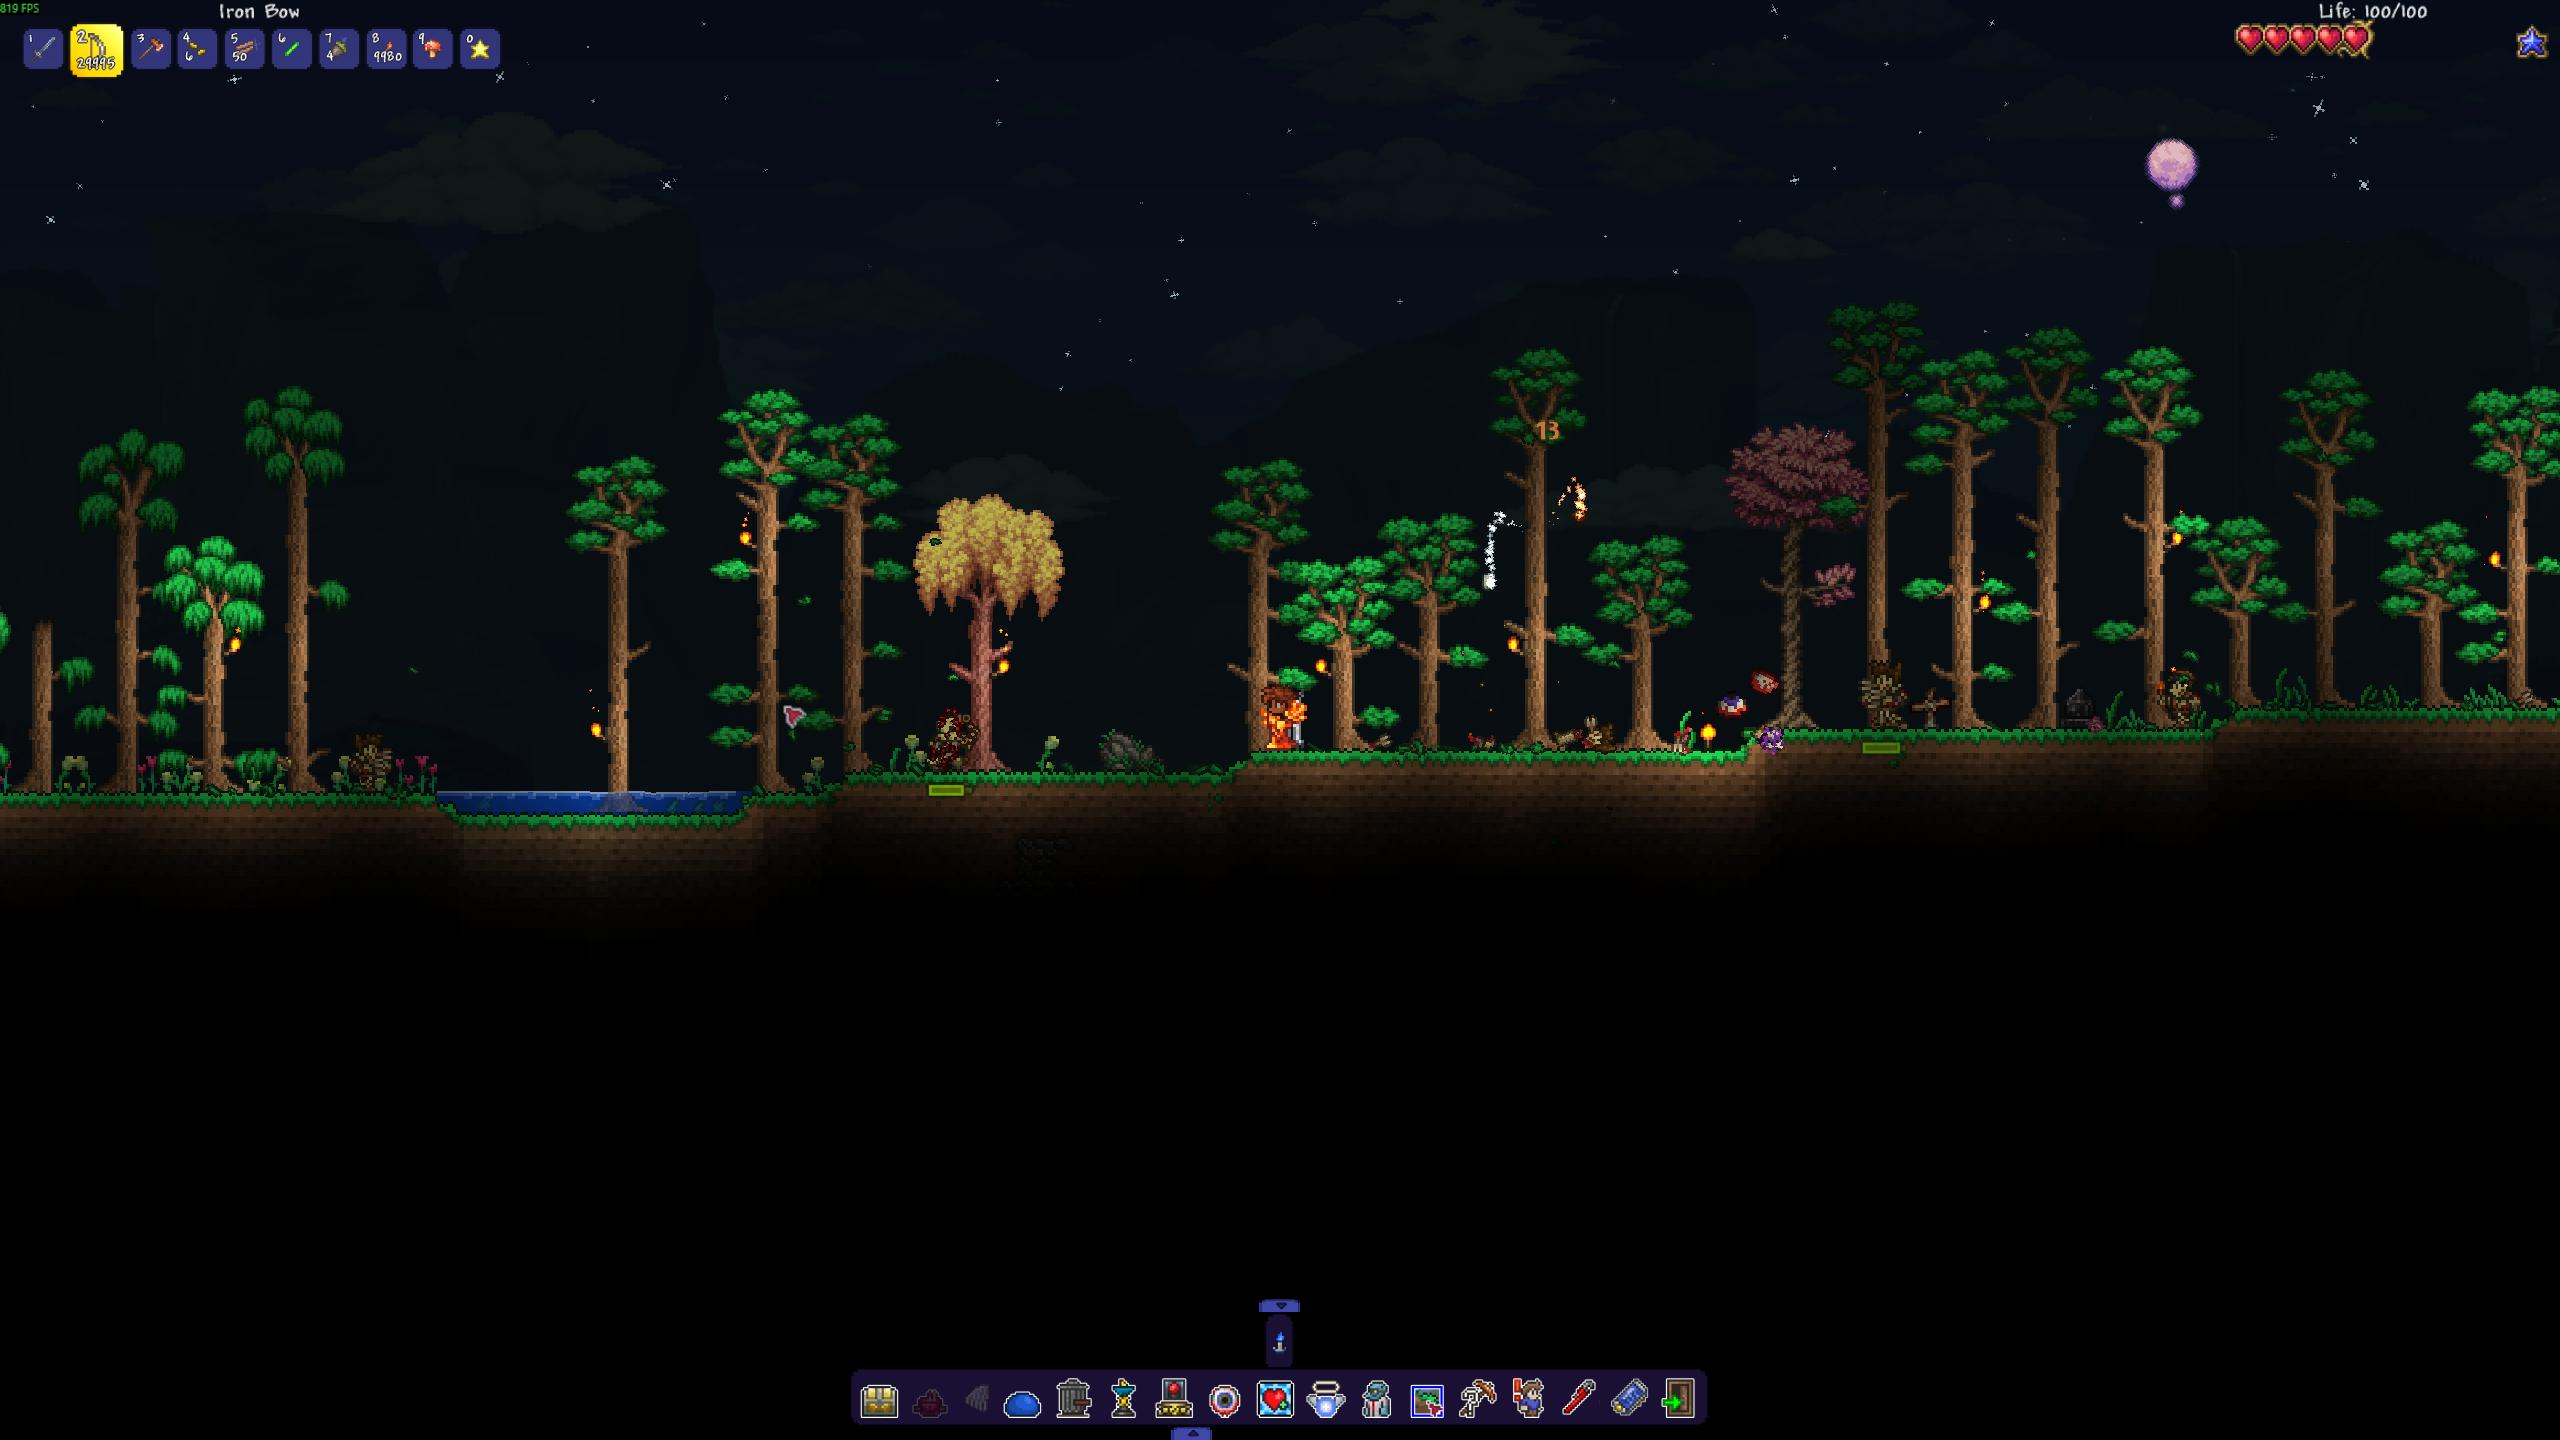Zombie: (1851, 656, 1911, 730), (2150, 663, 2205, 730), (923, 702, 971, 770), (343, 724, 390, 791)
